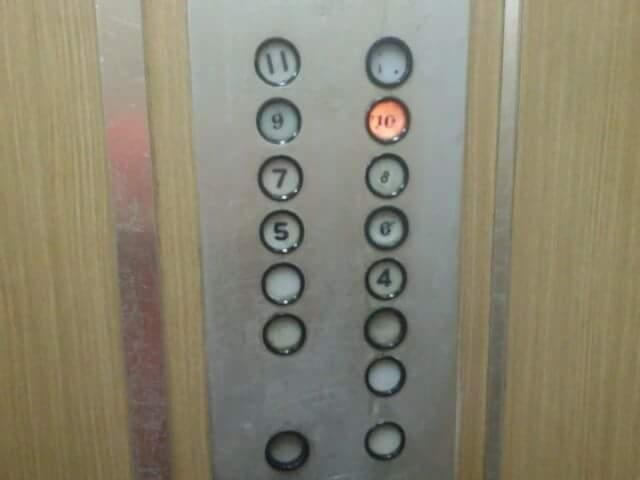10: (362, 93, 411, 145)
11: (252, 34, 302, 87)
4: (362, 255, 407, 300)
5: (256, 206, 305, 257)
6: (365, 206, 409, 250)
7: (256, 152, 303, 203)
8: (362, 152, 410, 200)
9: (256, 98, 302, 144)
blur: (365, 36, 413, 89)
empty: (259, 259, 305, 305), (263, 427, 310, 472), (362, 304, 407, 350), (262, 313, 306, 356), (363, 418, 406, 461), (364, 354, 406, 398)
